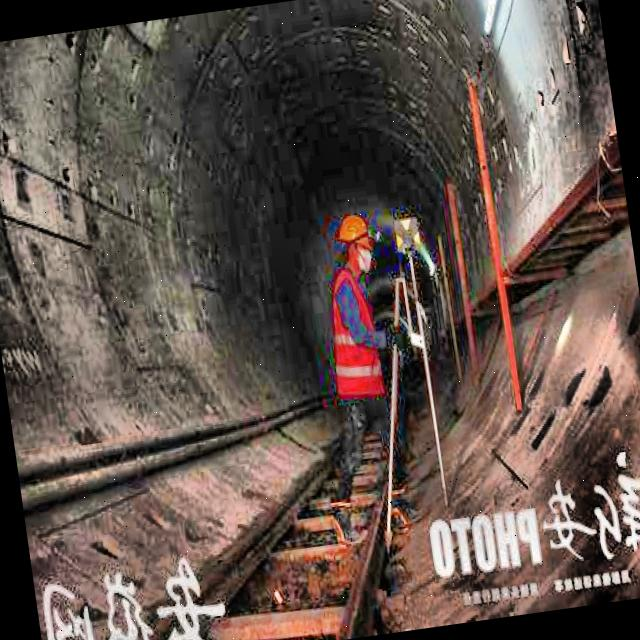helmet: (332, 208, 377, 272)
